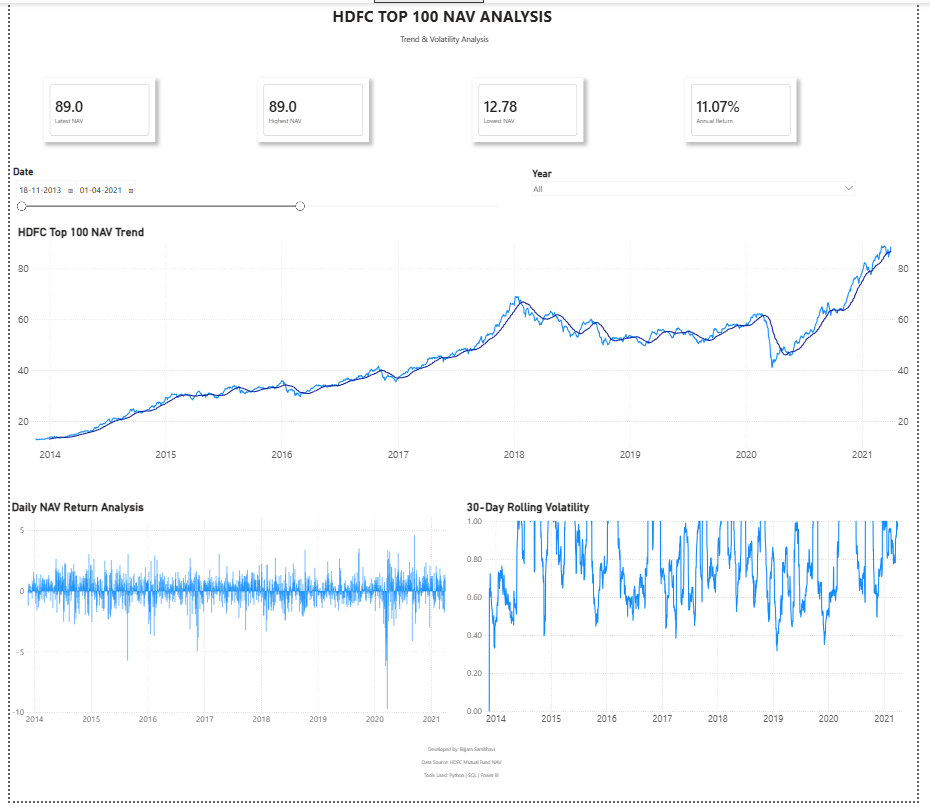

Layout of this report page (visuals, bound fields, positions):
{"tool":"powerbi","page":{"name":"NAV Analysis","canvas":[2000,1500],"ordinal":2},"visuals":[{"type":"lineChart","title":"HDFC Top 100 NAV Trend","fields":{"Category":["processed_nav_data.date"],"Y":["Avg(processed_nav_data.nav)"],"Y2":["Avg(processed_nav_data.MA_30)"]},"box":[16,294,1984,550],"z":0},{"type":"clusteredColumnChart","title":"Daily NAV Return Analysis","fields":{"Category":["processed_nav_data.date"],"Y":["Avg(processed_nav_data.Daily_Return)"]},"box":[16,892,944,358],"z":1000},{"type":"lineChart","title":"30-Day  Rolling Volatility","fields":{"Y":["Date_Table.Rolling_Volatility_30D"],"Category":["Date_Table.Date"]},"box":[1008,876,992,394],"z":2000},{"type":"slicer","fields":{"Values":["Date_Table.Date"]},"box":[330,128,1580,130],"z":3000},{"type":"textbox","box":[0,20,1974,108],"z":4000}]}

Visuals, with their boxes on the page's 2000x1500 design canvas (x1, y1, x2, y2). These are canvas units, not pixel positions in the 930x809 screenshot, which may show the page scaled, cropped or inside an application window:
"HDFC Top 100 NAV Trend" lineChart: region(16, 294, 2000, 844)
"Daily NAV Return Analysis" clusteredColumnChart: region(16, 892, 960, 1250)
"30-Day  Rolling Volatility" lineChart: region(1008, 876, 2000, 1270)
slicer - Date_Table.Date: region(330, 128, 1910, 258)
textbox: region(0, 20, 1974, 128)
